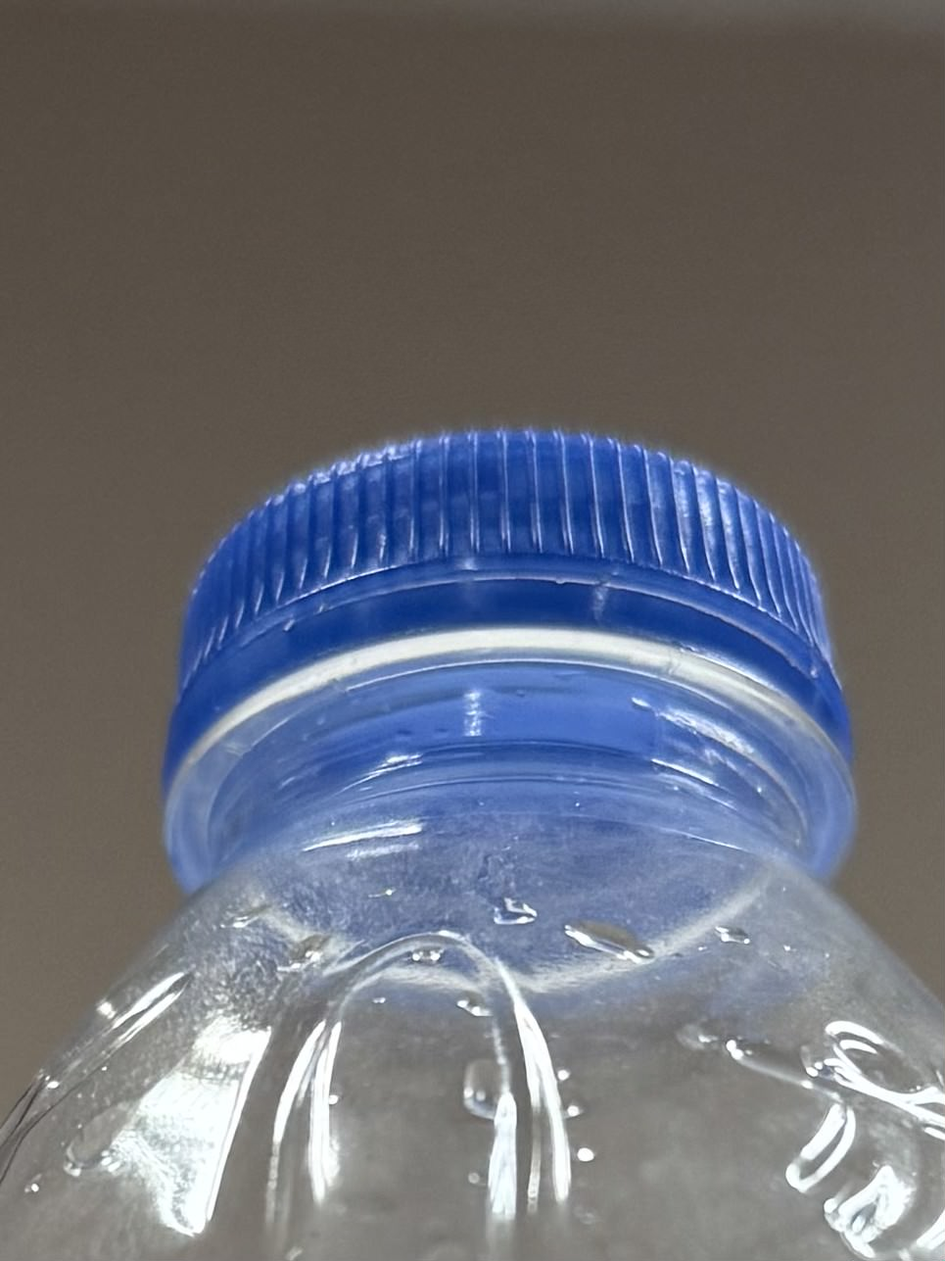closed_cap: (157, 420, 862, 898)
